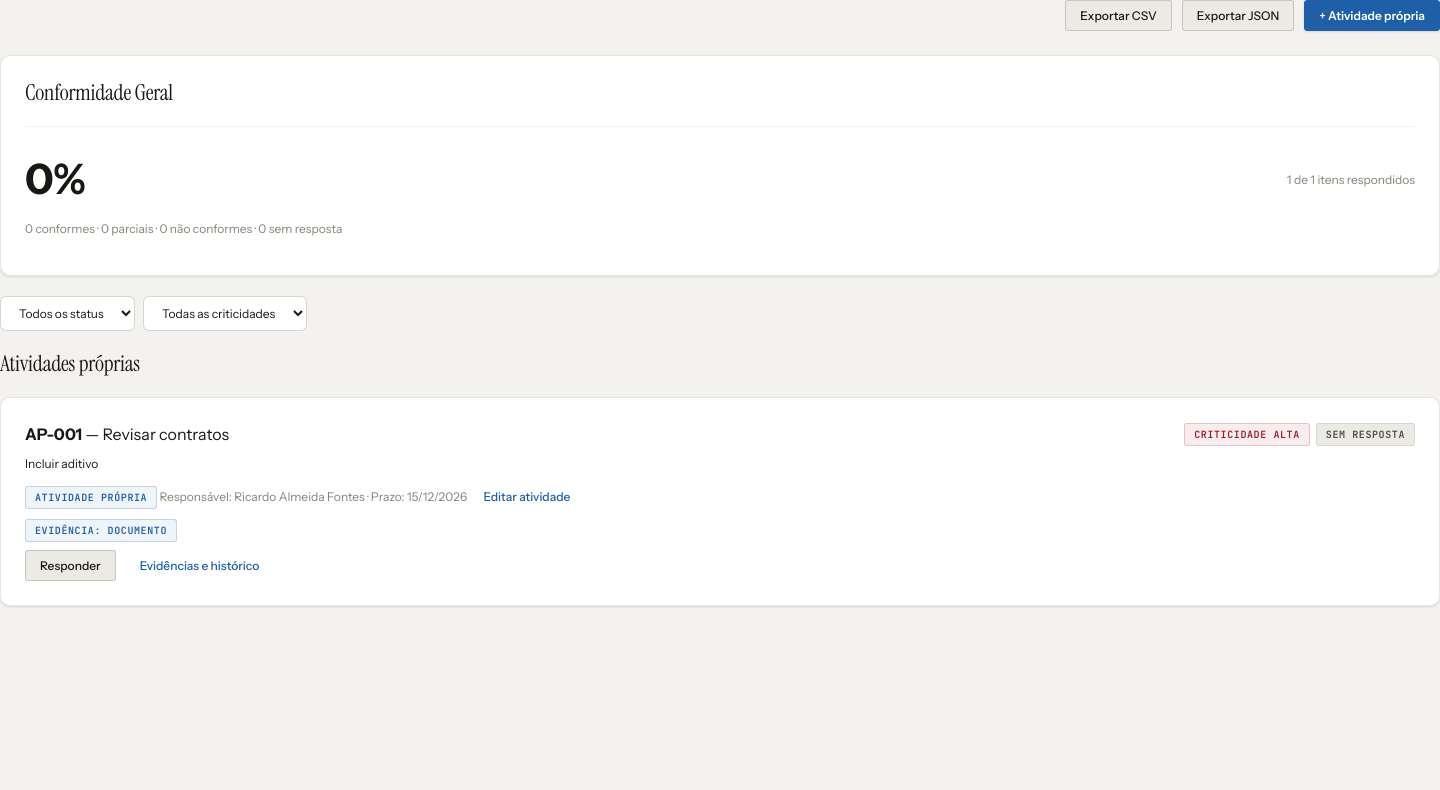
Scenario: "Editar atividade" abre o formulario dentro do card da atividade
The width and height of the screenshot is (1440, 790).
Click the button "Editar atividade" at (527, 496), box [470,482,584,511]
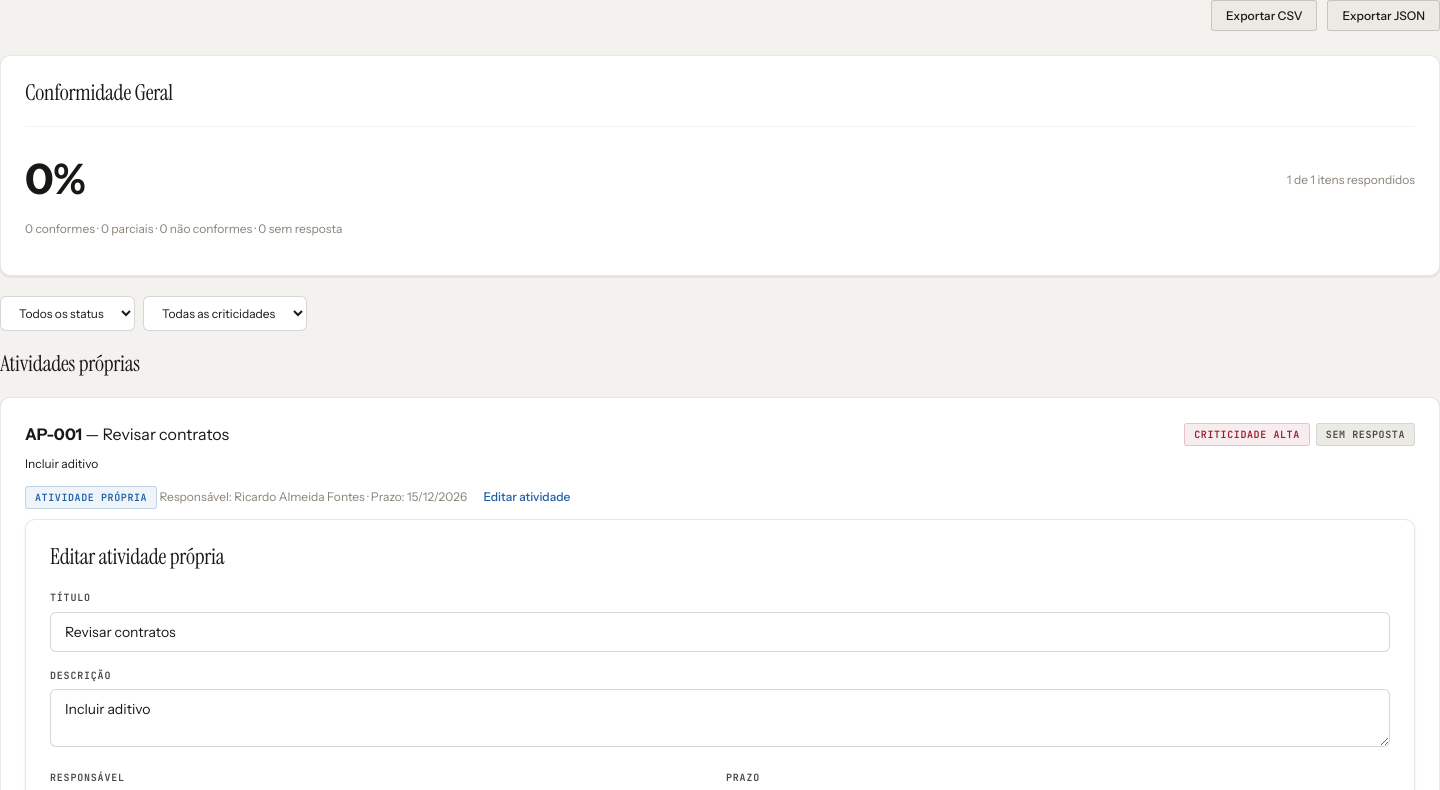
Now the text "Editar atividade própria" is shown, box [50,542,224,571]
Now the field showing "Revisar contratos" is shown, box [50,612,1390,652]
